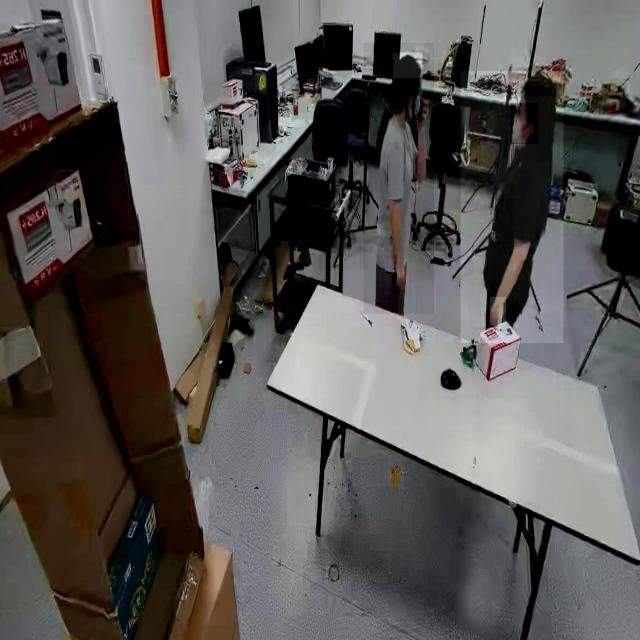face_mask: (510, 103, 538, 144), (405, 79, 422, 120)
hand_noglove: (415, 93, 431, 128), (392, 258, 408, 290), (490, 297, 506, 326)
head_nohelmet: (521, 69, 556, 97), (392, 53, 422, 79)
person: (460, 71, 564, 344), (363, 43, 434, 314)
